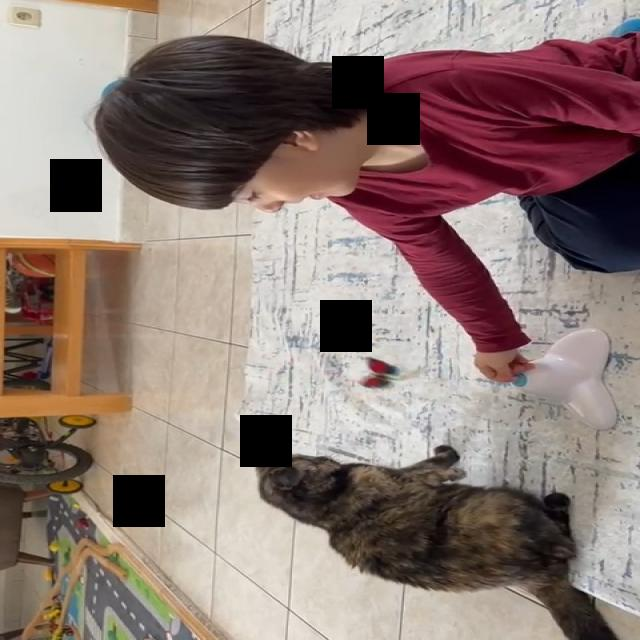authorized: (249, 444, 620, 639)
